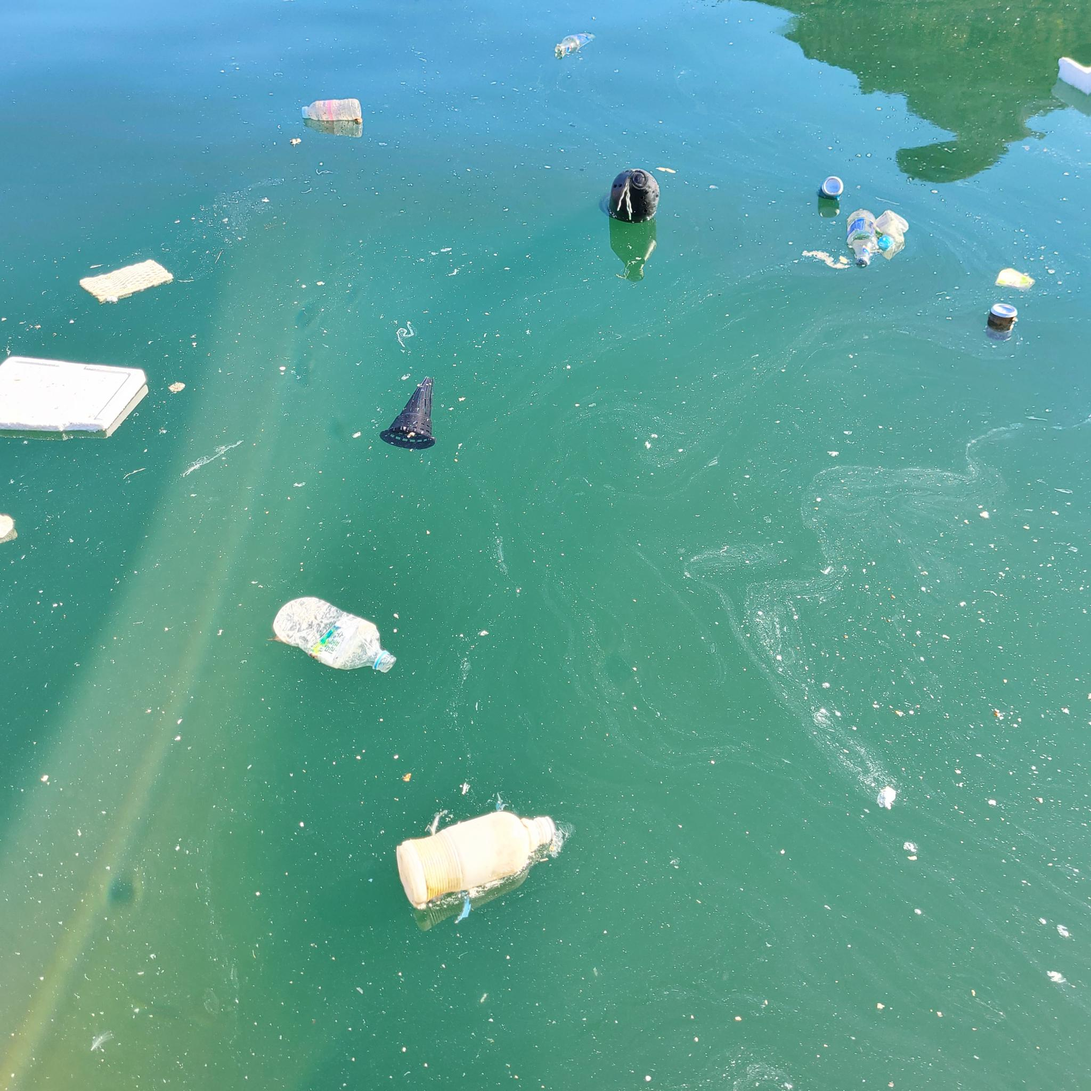sampah_terapung: (396, 808, 557, 906), (1, 357, 146, 431), (274, 598, 397, 673), (380, 377, 436, 450), (600, 168, 659, 224), (847, 210, 876, 266), (617, 177, 648, 220), (302, 99, 362, 121), (984, 304, 1018, 341), (1058, 58, 1091, 95), (878, 221, 906, 260), (556, 33, 597, 54), (818, 176, 844, 200), (1, 516, 13, 539), (169, 382, 186, 392)
